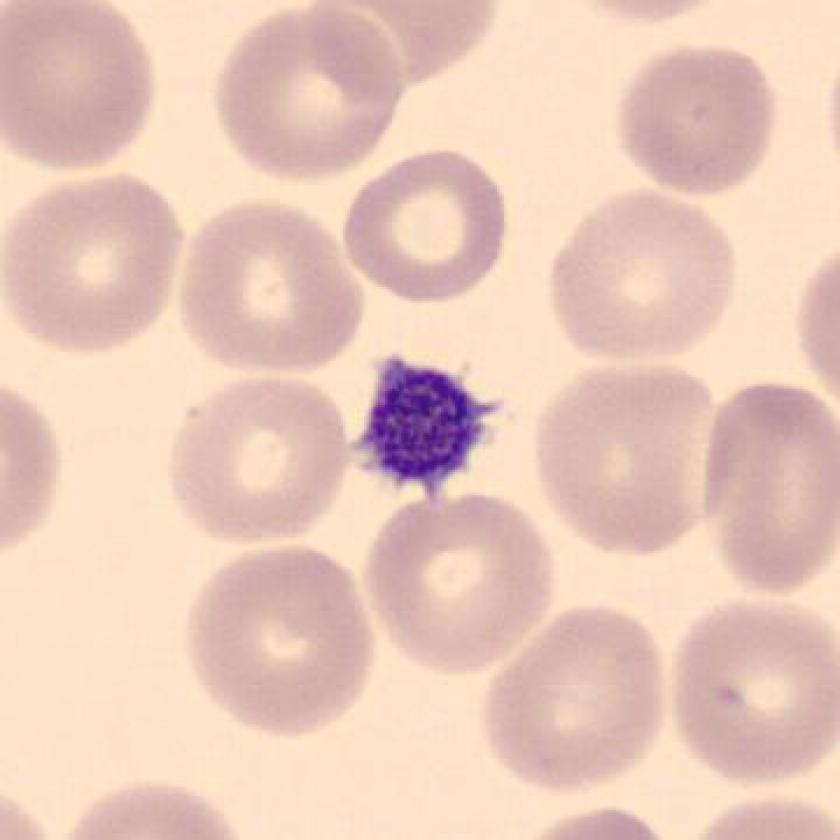platelets: (349, 348, 500, 501)
